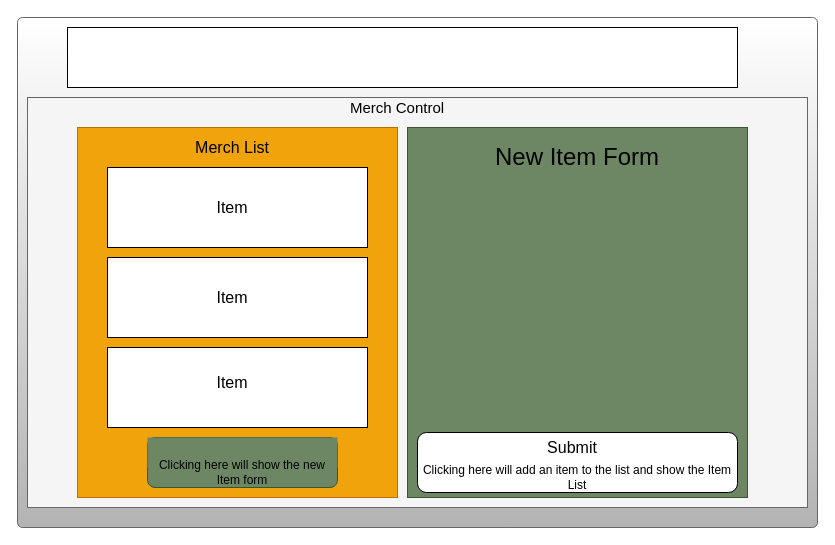
Some shapes in this 835 by 545 pixel diagram are drawn without their labels. Each missing label, with the centre of its shape:
Add Item: the point at 242,452
Header: the point at 402,57
